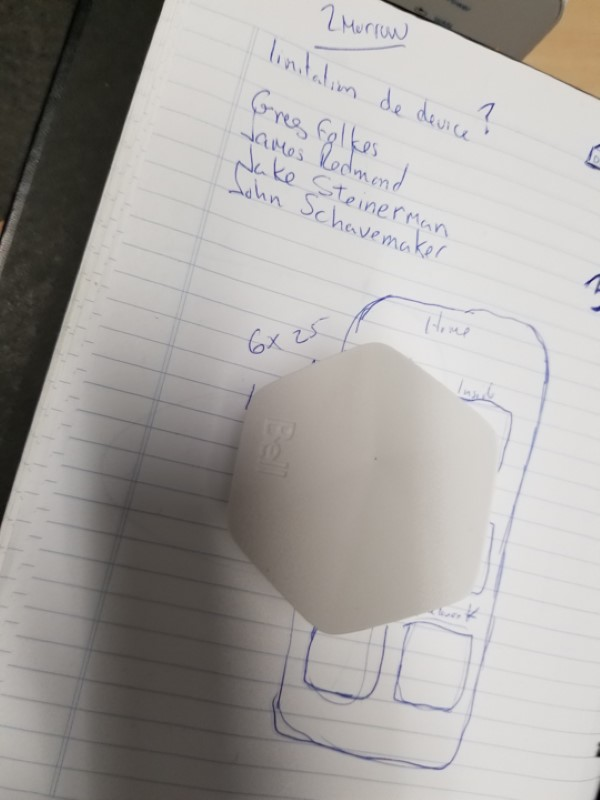pod: (221, 340, 502, 642)
